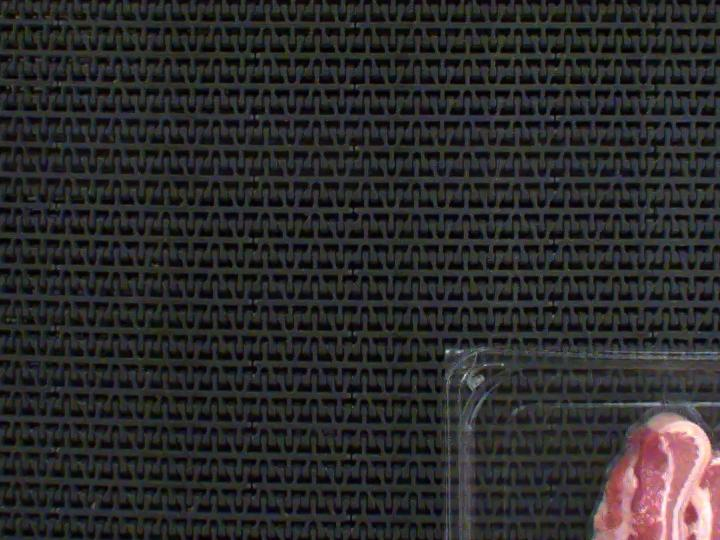unsealed: (603, 378, 720, 468)
